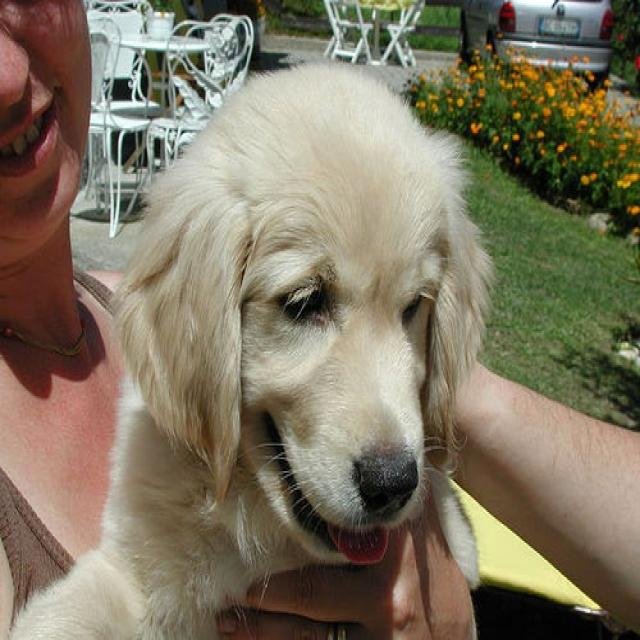light_vehicle: (458, 0, 614, 94)
